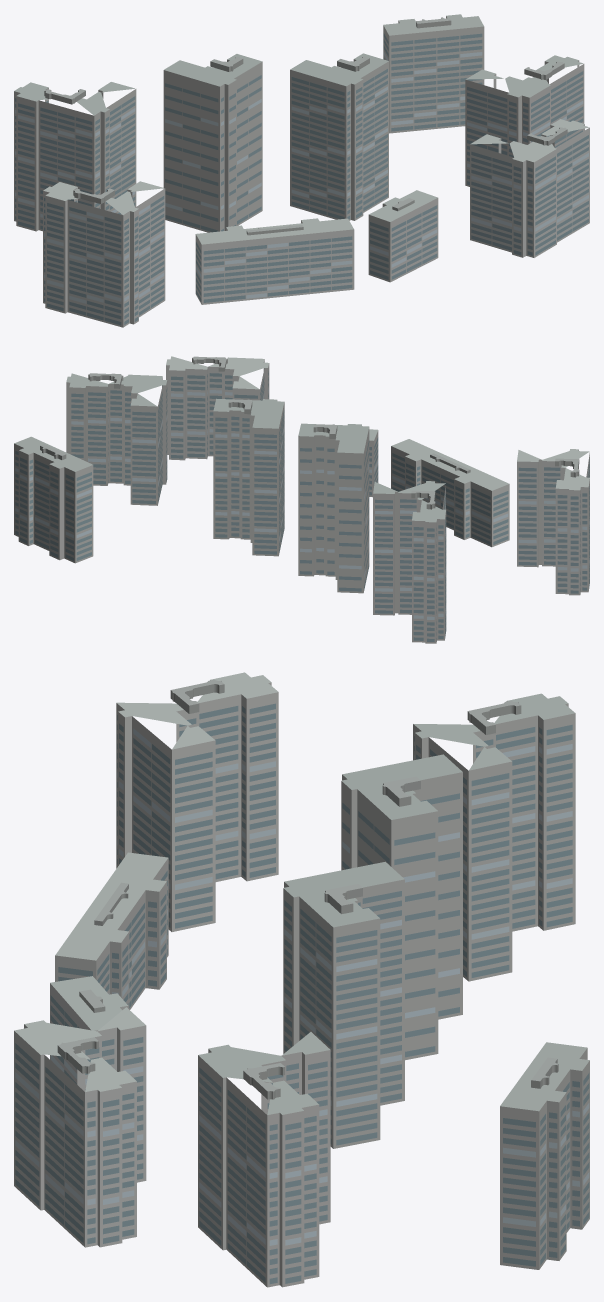
Rendered from apt-a10024085.glb.
3 renders of one model, top to bottom at view 1: azimuth 30°, elevation 25°; view 2: azimuth 150°, elevation 25°; view 3: azimuth 270°, elevation 25°, orthographic. The views are drawn at different scales.
Parts seen in each view (by area): view 1: apt-a10024085; view 2: apt-a10024085; view 3: apt-a10024085.
Boxes of the visible parts, <box> form: apt-a10024085: <box>14,14,589,327</box>; apt-a10024085: <box>14,356,589,643</box>; apt-a10024085: <box>14,672,589,1287</box>.
Bounding box in the file's own units: 262 × 71 × 147.
